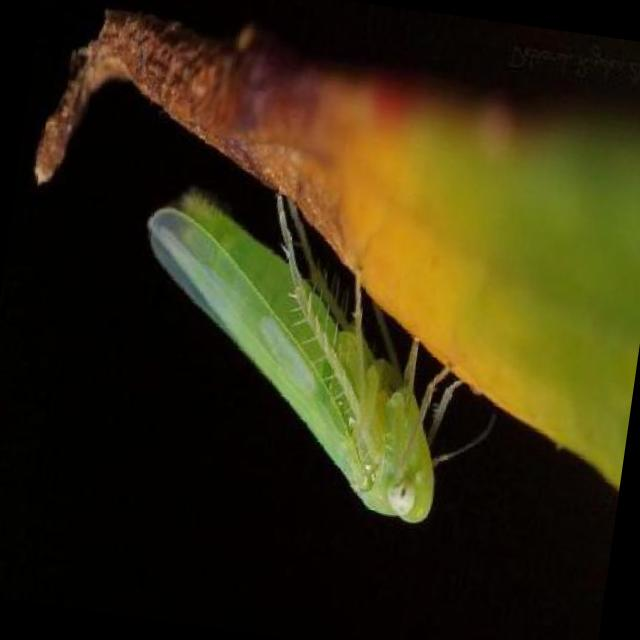green-leafhopper: (147, 191, 468, 524)
